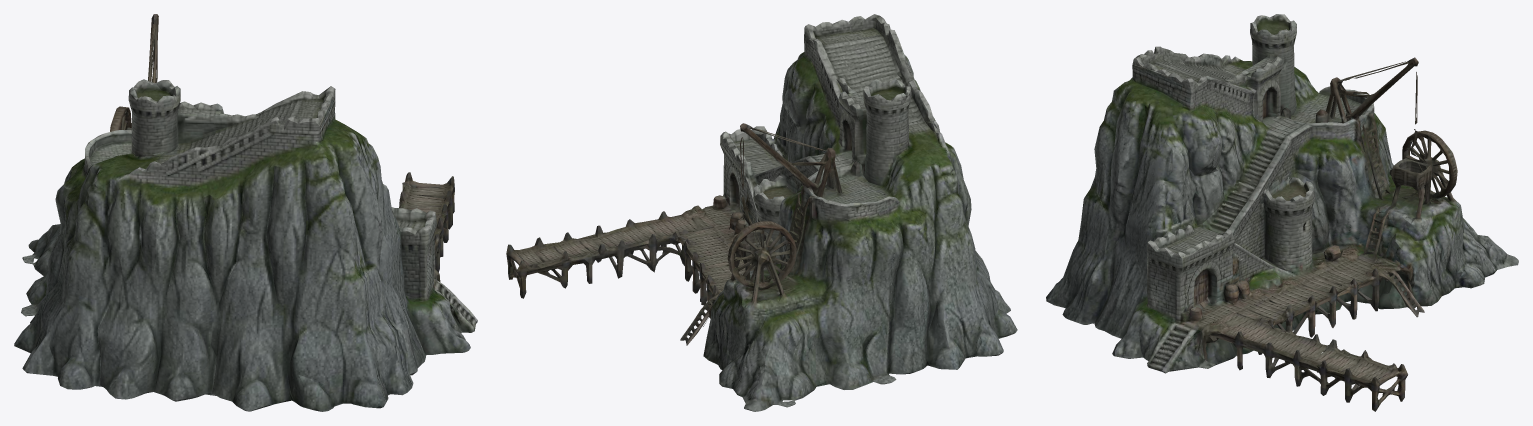
Rendered from pier_cliff.glb.
3 renders of one model, left to right at view 1: azimuth 30°, elevation 25°; view 2: azimuth 150°, elevation 25°; view 3: azimuth 270°, elevation 25°, orthographic. The views are drawn at different scales.
Parts seen in each view (by area): view 1: pier_cliff_export; view 2: pier_cliff_export; view 3: pier_cliff_export.
Part boxes in pixels (box(x1,y1,x2,y2)): pier_cliff_export: box(14, 14, 477, 411); pier_cliff_export: box(506, 14, 1017, 411); pier_cliff_export: box(1046, 14, 1518, 411).
Bounding box in the file's own units: 140 × 71.88 × 130.
Materials: 1 (1 with a texture image).
